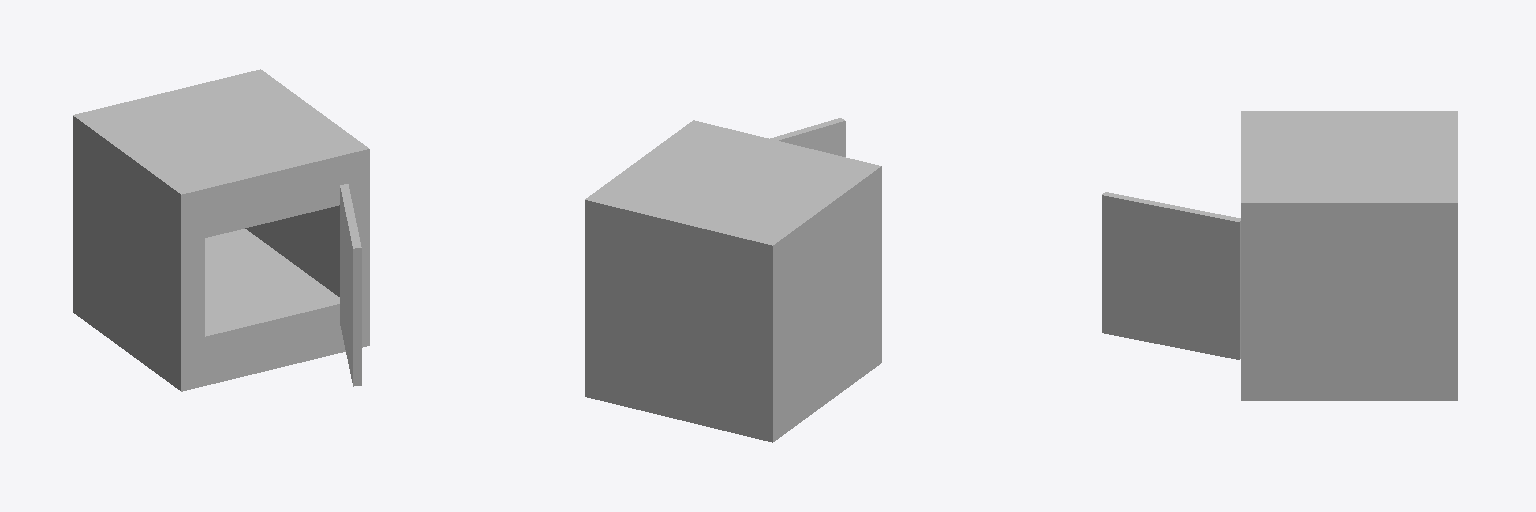
File: cooking_smelter_open.obj
The picture shows the model from 3 angles: view 1: azimuth 30°, elevation 25°; view 2: azimuth 150°, elevation 25°; view 3: azimuth 270°, elevation 25°; orthographic projection.
Visible parts, largest first — view 1: Cube.001, Cube.002; view 2: Cube.001, Cube.002; view 3: Cube.001, Cube.002.
Boxes of the visible parts, <box> form: Cube.001: <box>73,69,369,391</box>; Cube.002: <box>340,184,361,386</box>; Cube.001: <box>585,120,881,442</box>; Cube.002: <box>770,118,845,156</box>; Cube.001: <box>1241,111,1457,400</box>; Cube.002: <box>1102,192,1240,359</box>.
Bounding box in the file's own units: 1 × 1 × 1.64.